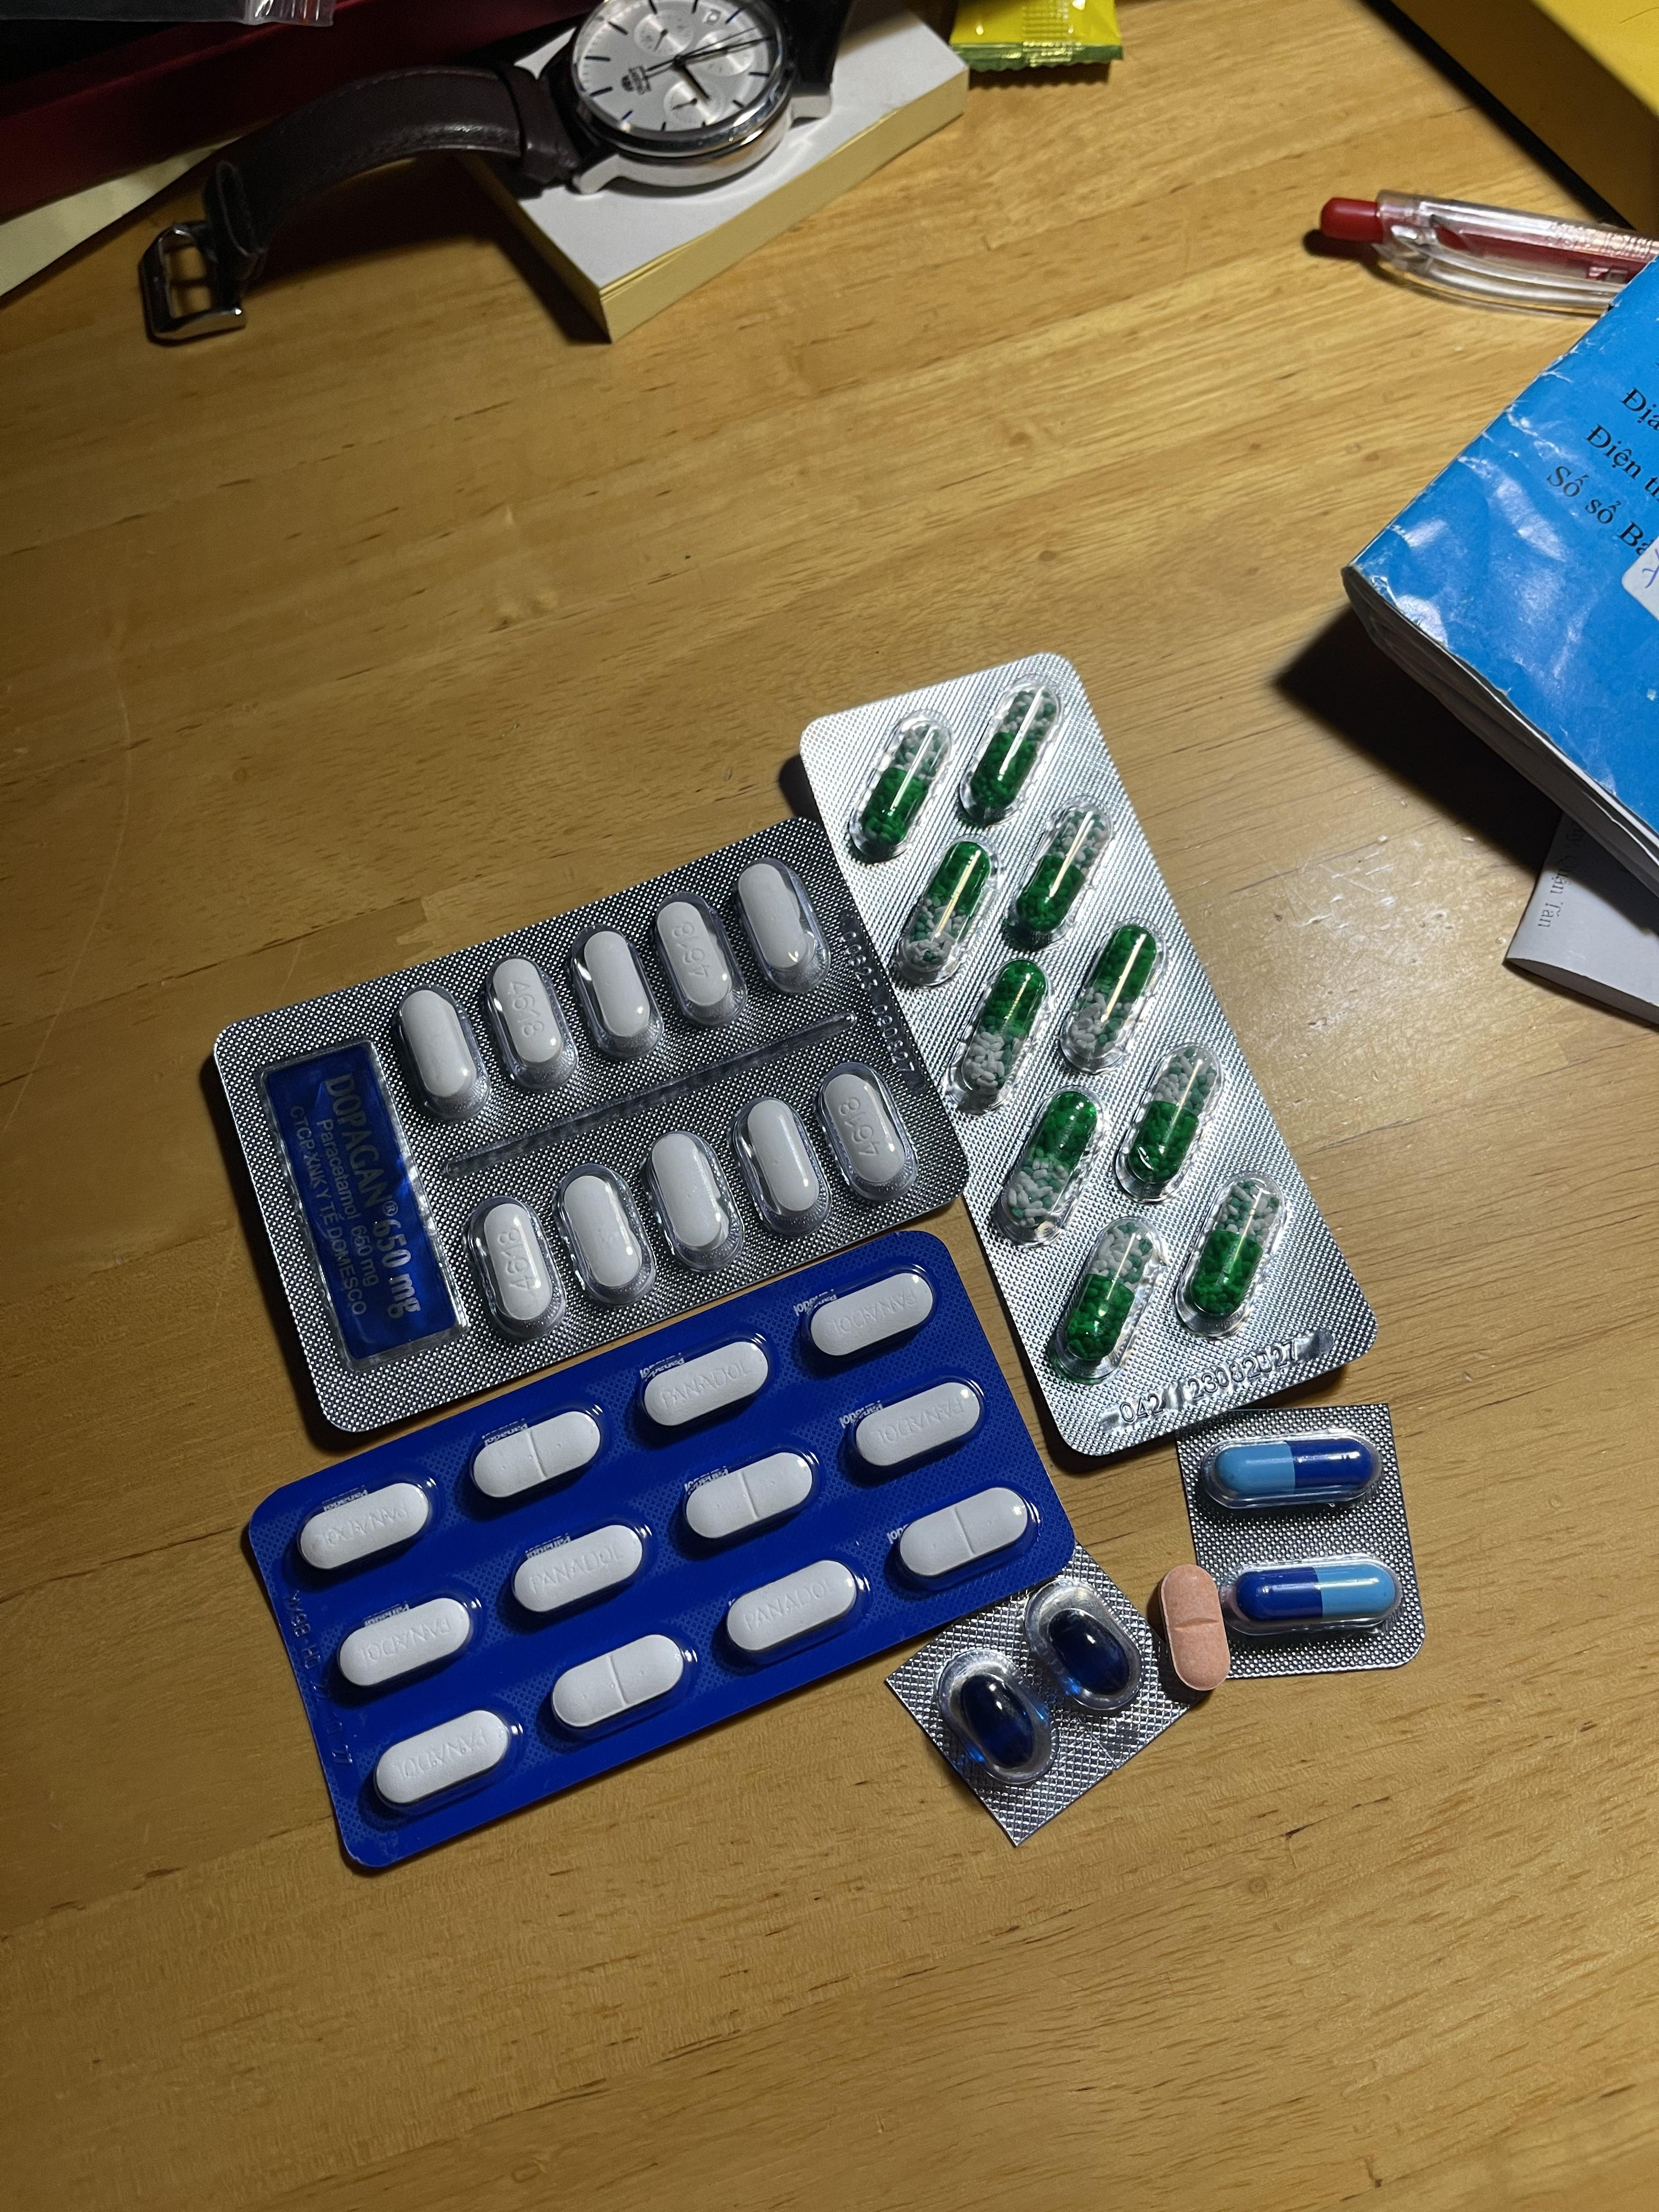Lincomyxin_500mg: (958, 1672, 1039, 1768), (1049, 1604, 1133, 1693)
Loratadine_10mg: (1159, 1566, 1230, 1691)
Paracetamol_350mg: (375, 1709, 511, 1810), (552, 1632, 687, 1731), (725, 1561, 861, 1656), (852, 1372, 990, 1467), (338, 1597, 474, 1691), (643, 1338, 775, 1432), (516, 1522, 647, 1616), (298, 1482, 430, 1575), (687, 1451, 817, 1543), (899, 1486, 1030, 1578), (476, 1409, 601, 1501), (810, 1270, 938, 1360)
Paracetamol_500mg: (467, 1195, 570, 1332), (655, 892, 755, 1029), (816, 1069, 917, 1202), (572, 928, 669, 1062), (739, 862, 826, 995), (491, 956, 575, 1082), (399, 989, 484, 1108), (650, 1132, 730, 1256), (561, 1174, 643, 1294), (746, 1096, 824, 1217)
Paracetamol_650mg: (1046, 1217, 1159, 1374), (1176, 1176, 1284, 1329), (995, 1089, 1100, 1233), (1115, 1049, 1220, 1193), (1006, 810, 1115, 948), (850, 712, 953, 855), (1058, 925, 1161, 1068), (957, 683, 1063, 817), (896, 841, 997, 979), (958, 961, 1053, 1096)
pill: (1230, 1561, 1394, 1623), (1215, 1439, 1377, 1498)
